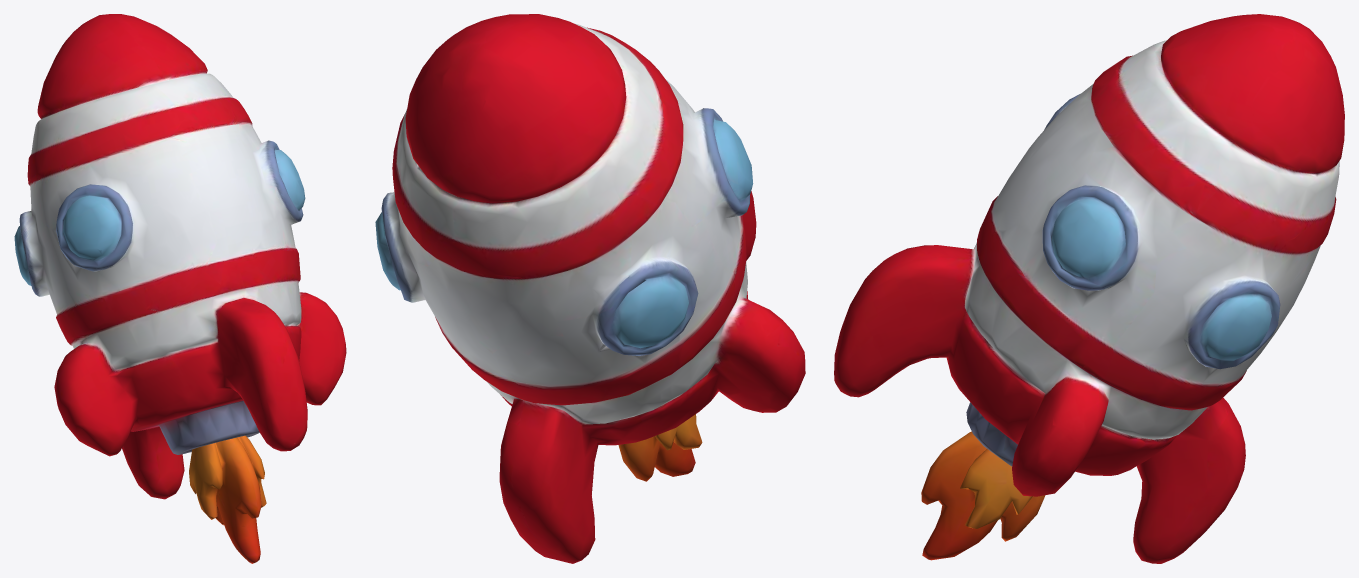
File: rocket.glb
3 renders of one model, left to right at view 1: azimuth 30°, elevation 25°; view 2: azimuth 150°, elevation 25°; view 3: azimuth 270°, elevation 25°, orthographic. The views are drawn at different scales.
Visible parts, largest first — view 1: tripo_node_64c1e457-9899-46c0-9bf2-55d557603387; view 2: tripo_node_64c1e457-9899-46c0-9bf2-55d557603387; view 3: tripo_node_64c1e457-9899-46c0-9bf2-55d557603387.
Part boxes in pixels (box(x1,y1,x2,y2)): tripo_node_64c1e457-9899-46c0-9bf2-55d557603387: box(14, 14, 346, 563); tripo_node_64c1e457-9899-46c0-9bf2-55d557603387: box(375, 14, 805, 563); tripo_node_64c1e457-9899-46c0-9bf2-55d557603387: box(834, 14, 1344, 563).
Size of the model in its own units: 0.661 by 1 by 0.8571.
Materials: 1 (1 with a texture image).
